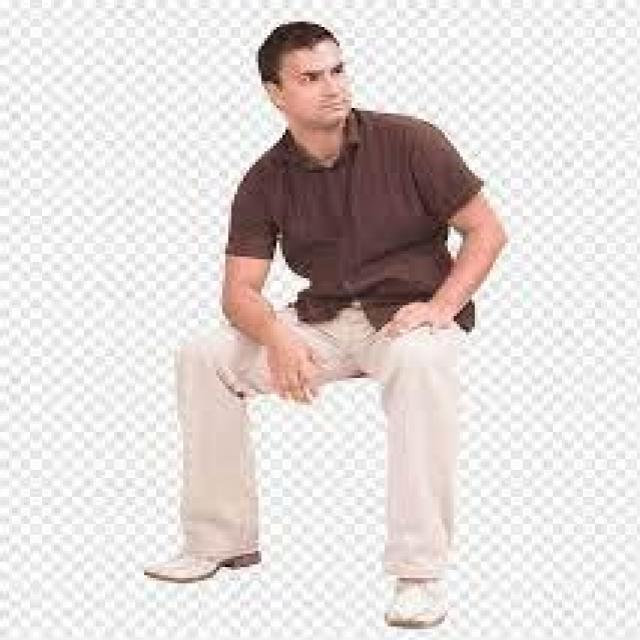person: (132, 13, 529, 634)
